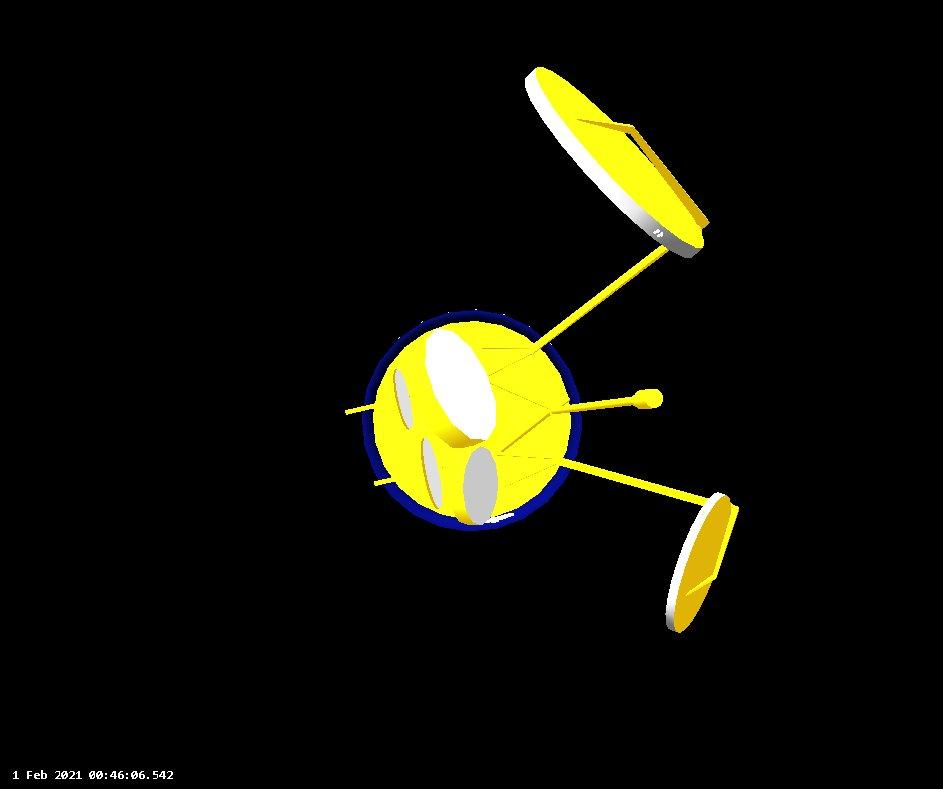antenna: (519, 54, 712, 261), (497, 375, 671, 448), (663, 485, 739, 640), (417, 325, 502, 444), (462, 447, 500, 525), (417, 437, 450, 514), (389, 368, 417, 431)
body: (344, 302, 584, 540)
